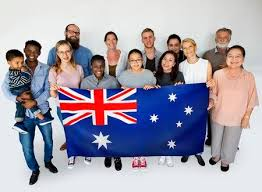person: (216, 46, 252, 93), (181, 39, 209, 73), (85, 58, 115, 88), (126, 54, 152, 86), (156, 52, 179, 88)
